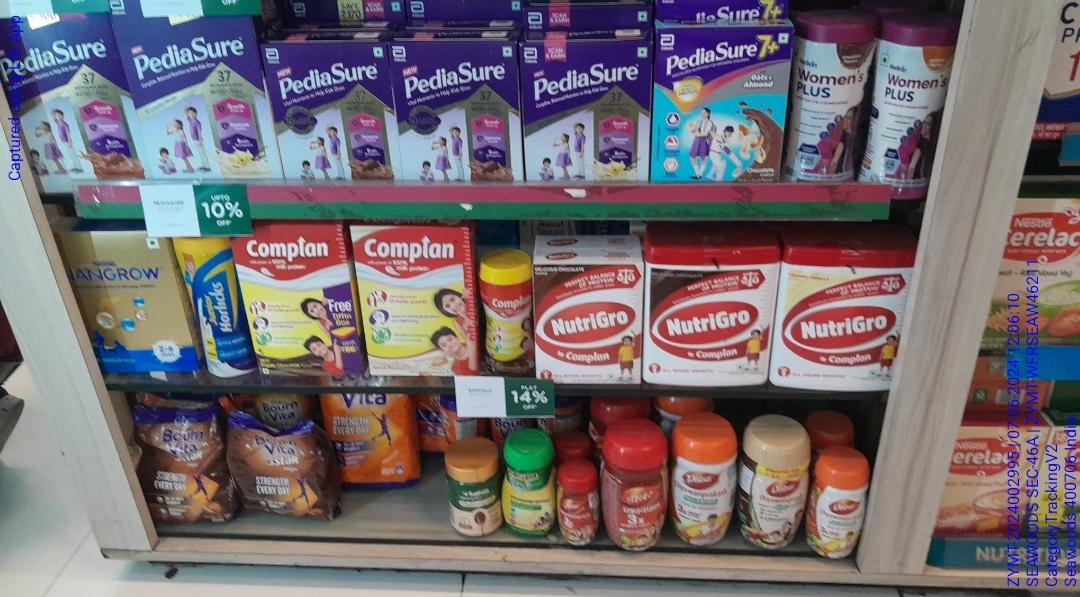COMPLAN_CHOCOLATE_200_GMS_JAR: (481, 262, 529, 366)
COMPLAN_KESAR_BADAM_500_GMS_PACK: (358, 227, 470, 377)
PEDIASURE_7_PLUS_CHOCOLATE_400_G_PACK: (658, 30, 784, 181)
PEDIASURE_CHOCOLATE_500_G_PACK: (3, 24, 117, 186), (392, 40, 513, 180), (275, 41, 382, 180)
PEDIASURE_VANILLA_500_G_PACK: (124, 18, 267, 180), (519, 38, 650, 186)
